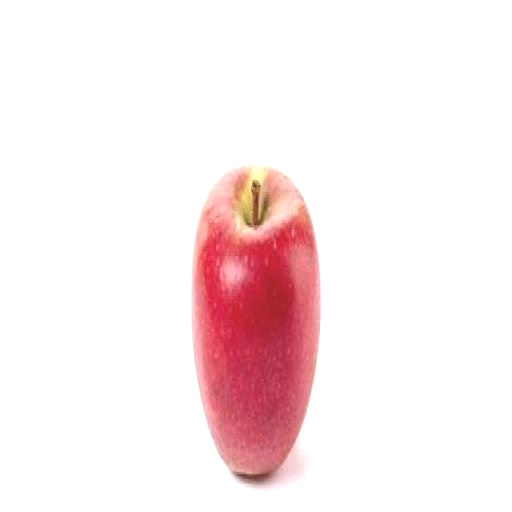fruit: (192, 166, 319, 475)
